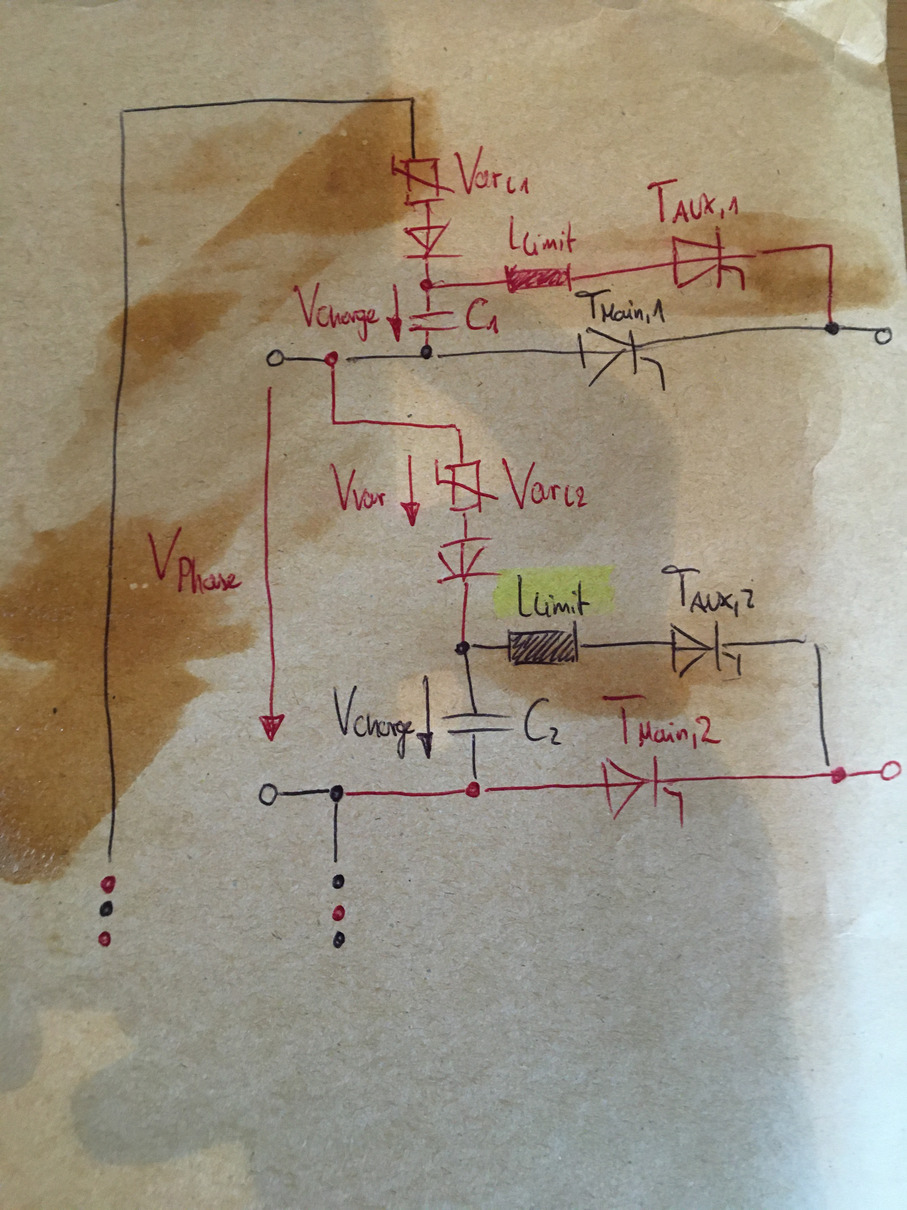capacitor.unpolarized: (440, 708, 516, 739), (405, 307, 461, 334)
diode: (434, 535, 505, 585), (401, 218, 465, 260)
inductor: (504, 619, 582, 670), (502, 262, 574, 294)
junction: (462, 774, 490, 801), (822, 760, 849, 787), (324, 783, 350, 806), (320, 349, 351, 368), (417, 342, 441, 363), (418, 276, 442, 297), (822, 317, 845, 337), (798, 634, 824, 651), (454, 637, 475, 658), (405, 91, 424, 108), (113, 104, 130, 121), (449, 420, 465, 434), (823, 240, 838, 254), (327, 417, 343, 430)
terminal: (96, 858, 120, 896), (328, 858, 348, 892), (256, 781, 281, 808), (878, 758, 903, 783), (872, 324, 895, 348), (264, 346, 287, 369)
text: (599, 691, 722, 751), (329, 680, 415, 761), (145, 524, 243, 595), (290, 279, 382, 345), (658, 561, 758, 618), (499, 456, 589, 514), (645, 176, 743, 225), (452, 144, 532, 197), (572, 286, 668, 326), (512, 572, 592, 619), (326, 459, 390, 513), (505, 212, 578, 259), (521, 695, 565, 749), (464, 294, 501, 336)
thyristor: (599, 754, 687, 822), (573, 326, 667, 389), (670, 227, 748, 294), (667, 618, 743, 680)
varistor: (432, 456, 503, 517), (388, 152, 456, 208)
